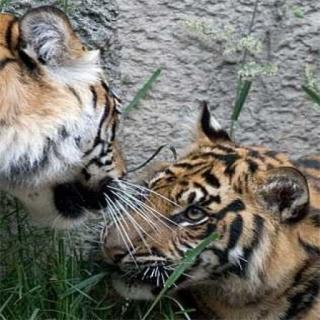Tiger: (105, 114, 320, 320), (0, 2, 132, 240)
